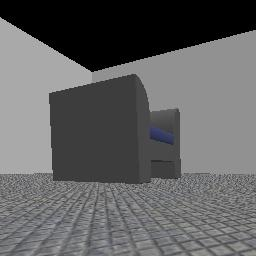fotoliu: (49, 74, 180, 183)
